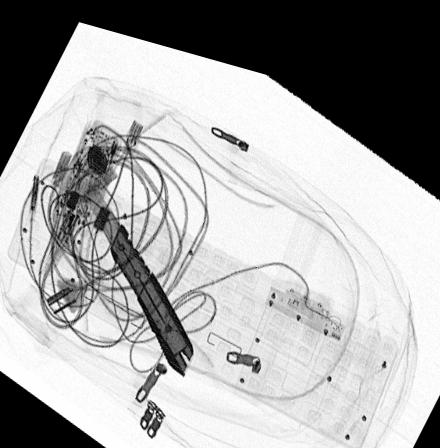Knife: (83, 185, 194, 367)
